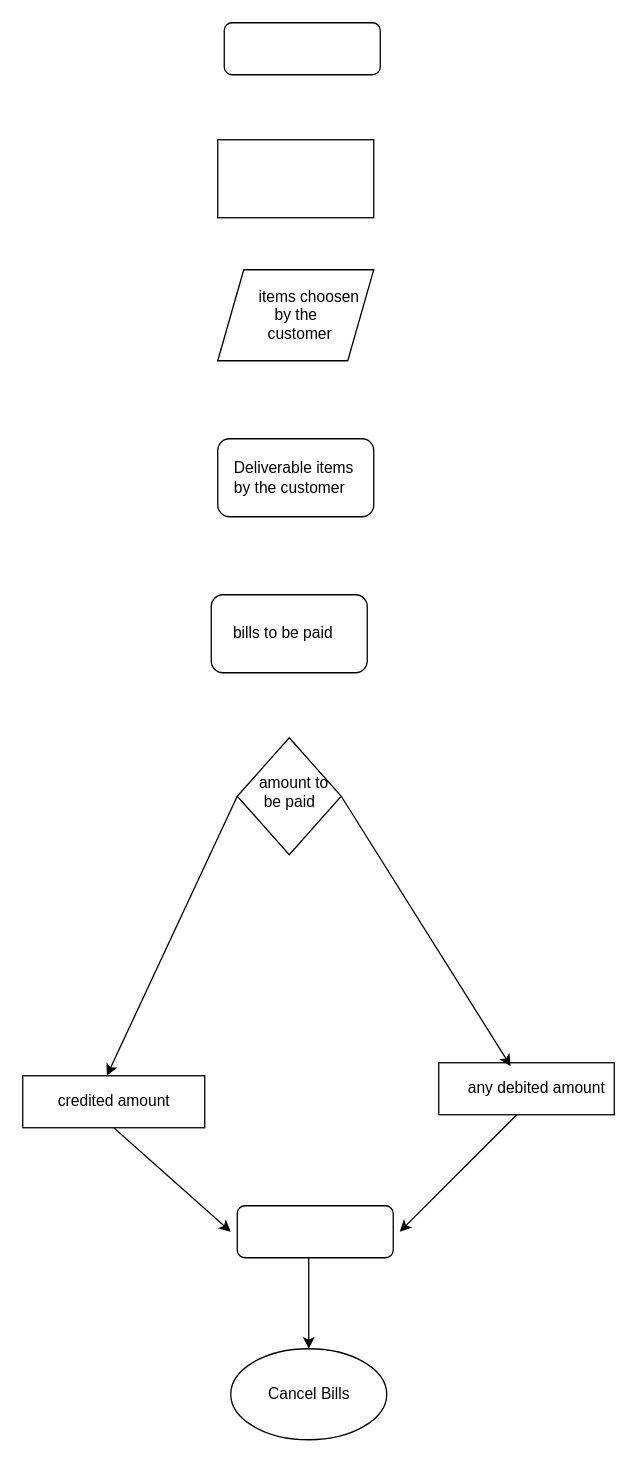
Image size: 637x1463. Some labels were removed from this diagram. The centre of each missing label's shape, as x and y in pixels:
"Bills paided list" goes at (x=314, y=1231).
"items/products in the menu list" goes at (x=295, y=178).
"start" goes at (x=301, y=48).
